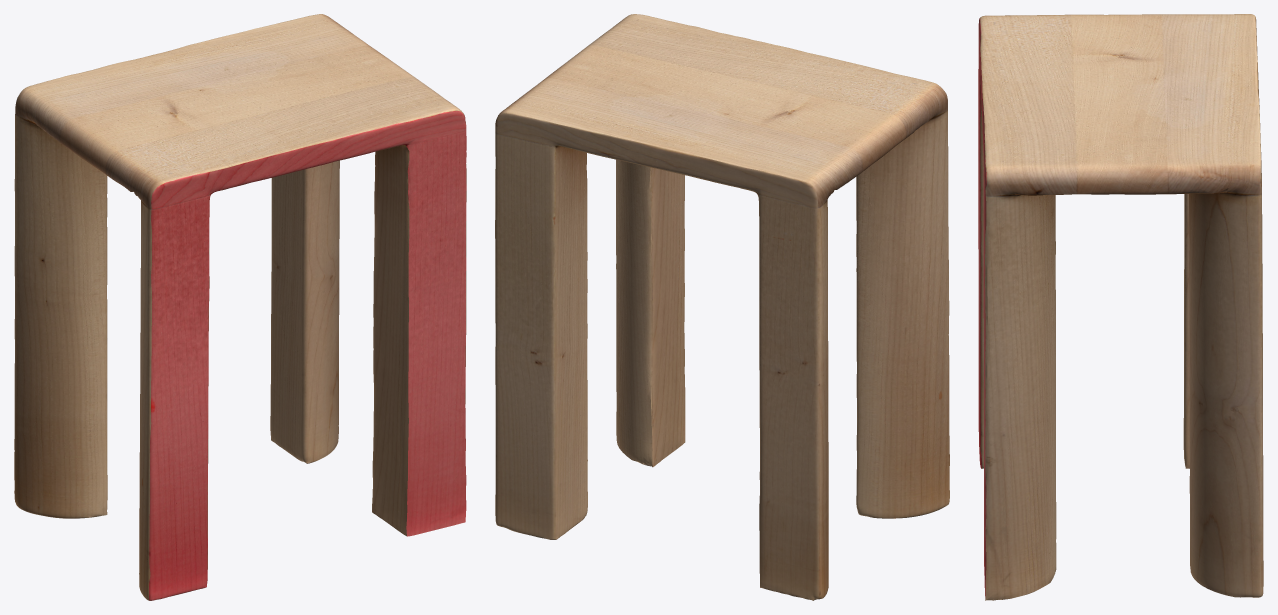
Rendered from KuengCaputo_SiloFurniture_2017_4.glb.
The picture shows the model from 3 angles, left to right: view 1: azimuth 30°, elevation 25°; view 2: azimuth 150°, elevation 25°; view 3: azimuth 270°, elevation 25°; orthographic projection. The views are drawn at different scales.
Parts seen in each view (by area): view 1: Retopo_KC_Hocker_v1; view 2: Retopo_KC_Hocker_v1; view 3: Retopo_KC_Hocker_v1.
Boxes of the visible parts, <box> form: Retopo_KC_Hocker_v1: <box>14,14,466,600</box>; Retopo_KC_Hocker_v1: <box>495,14,949,600</box>; Retopo_KC_Hocker_v1: <box>978,14,1263,600</box>.
Size of the model in its own units: 0.3664 by 0.4498 by 0.2696.
Materials: 1 (1 with a texture image).
